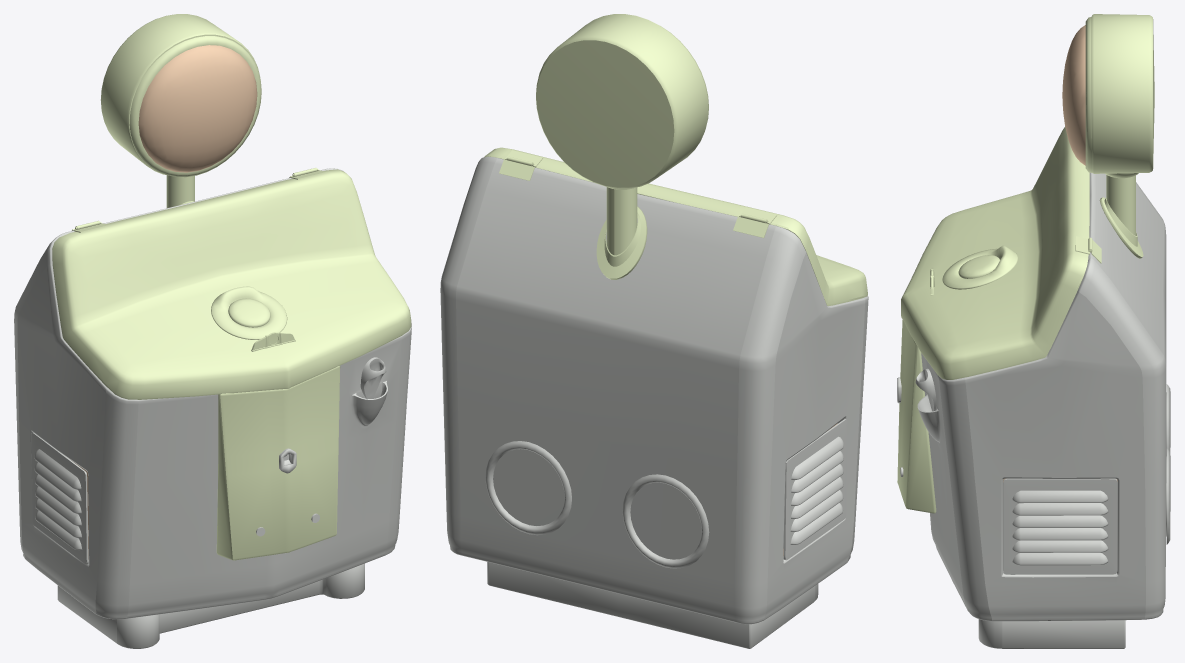
File: Quick Revive.fbx
3 renders of one model, left to right at view 1: azimuth 30°, elevation 25°; view 2: azimuth 150°, elevation 25°; view 3: azimuth 270°, elevation 25°, orthographic. The views are drawn at different scales.
Visible parts, largest first — view 1: mc_mtl_p7_zm_vending_revive_top_cover, mc_mtl_p7_zm_vending_revive, mc_mtl_p7_zm_vending_revive_sign; view 2: mc_mtl_p7_zm_vending_revive, mc_mtl_p7_zm_vending_revive_top_cover; view 3: mc_mtl_p7_zm_vending_revive, mc_mtl_p7_zm_vending_revive_top_cover, mc_mtl_p7_zm_vending_revive_sign.
Part boxes in pixels (x1,y1,x2,y2): mc_mtl_p7_zm_vending_revive_top_cover: (52,14,411,560); mc_mtl_p7_zm_vending_revive: (14,168,411,648); mc_mtl_p7_zm_vending_revive_sign: (71,45,257,559); mc_mtl_p7_zm_vending_revive: (440,156,868,648); mc_mtl_p7_zm_vending_revive_top_cover: (484,14,867,306); mc_mtl_p7_zm_vending_revive: (897,172,1170,648); mc_mtl_p7_zm_vending_revive_top_cover: (897,14,1154,513); mc_mtl_p7_zm_vending_revive_sign: (1003,25,1117,481).
Bounding box in the file's own units: 5111 × 8517 × 3726.
